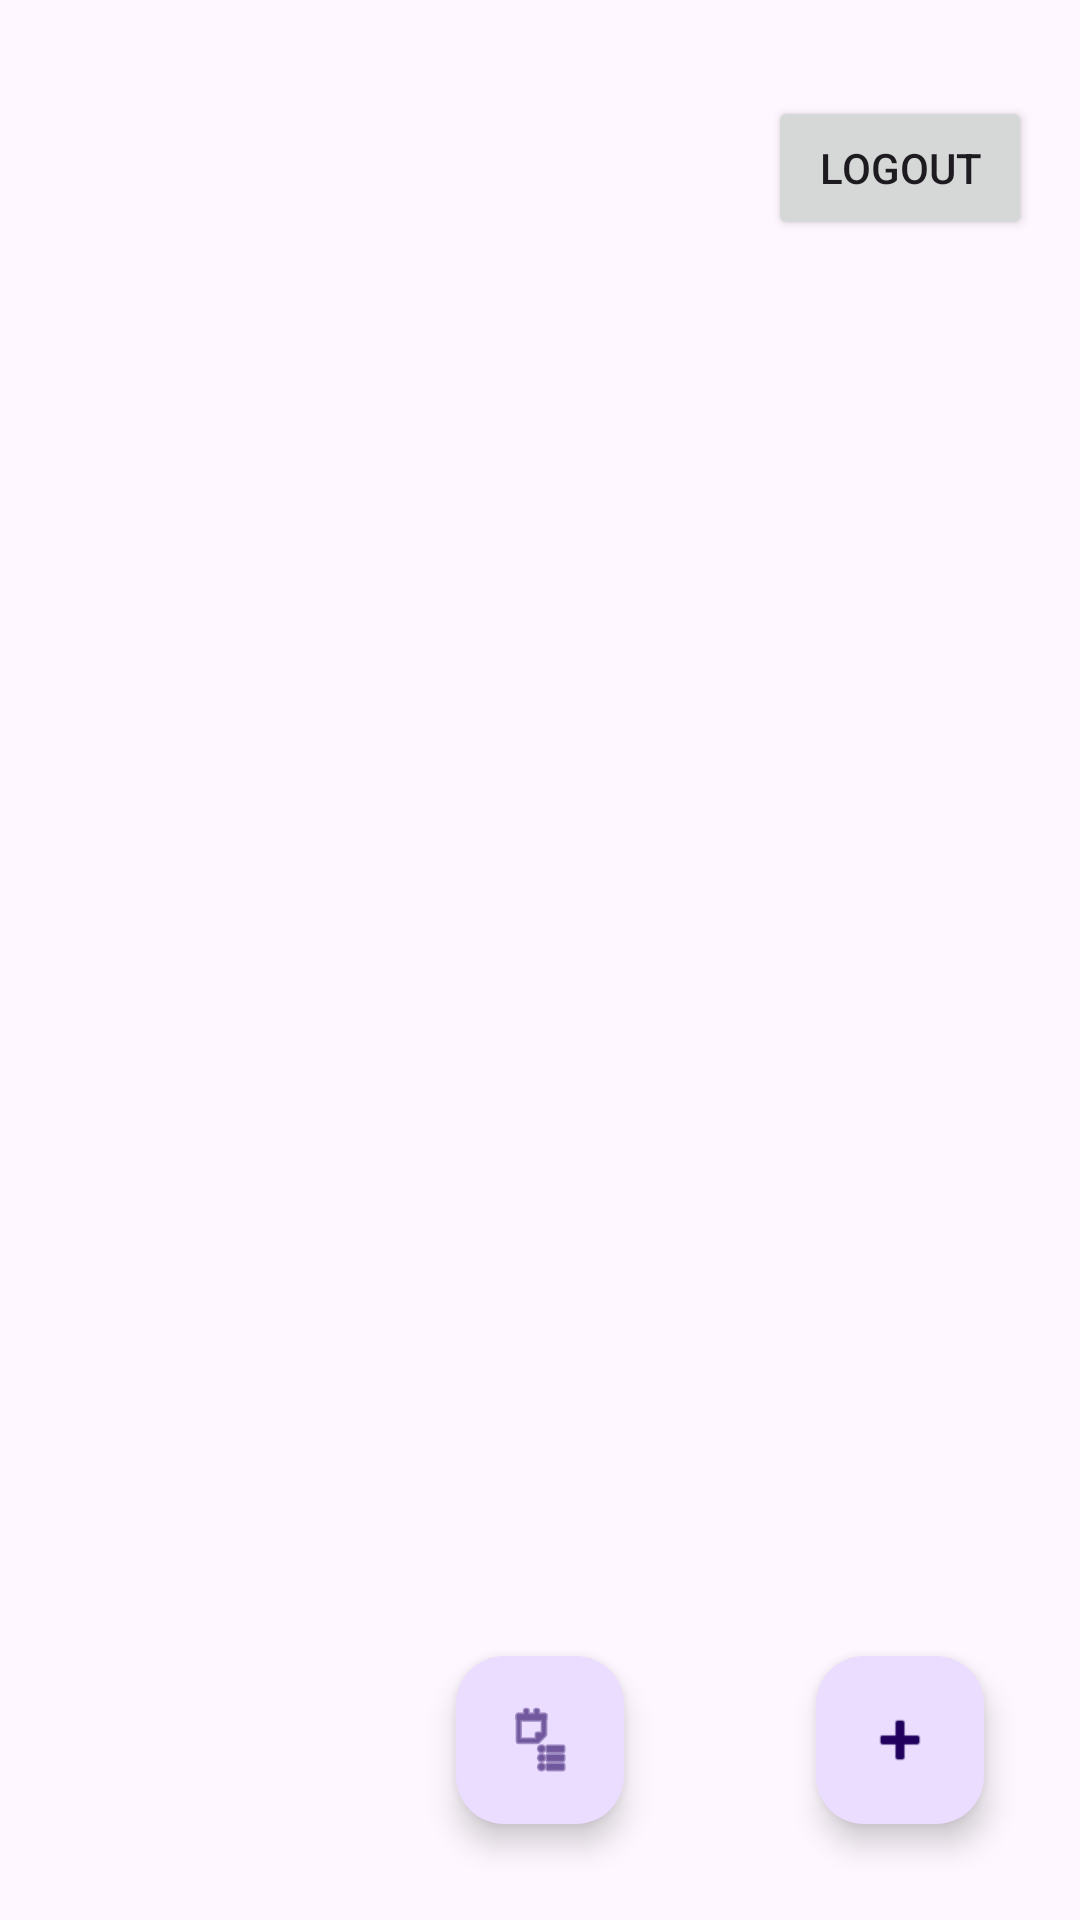

Where icons sit on this 1080px×1920px app screen, as (x1, y1, x2, y2):
Add Product: (816, 1656, 984, 1824)
View Orders: (456, 1656, 624, 1824)
